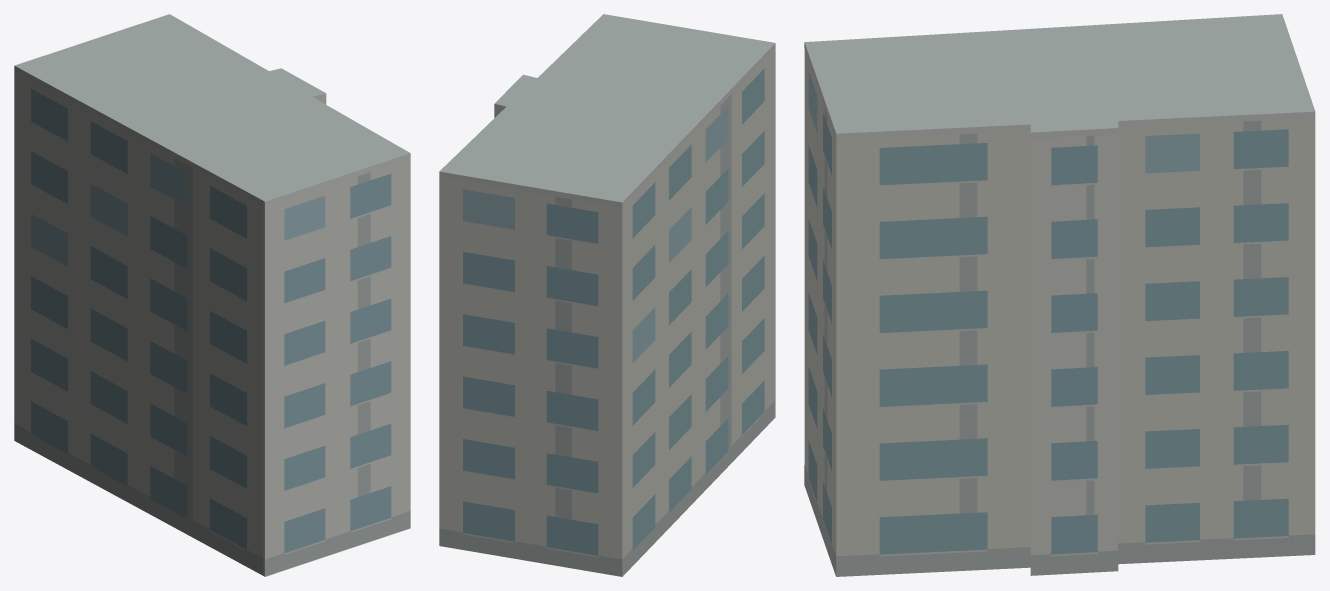
The model's file is survey-upis-32575367.glb.
3 renders of one model, left to right at view 1: azimuth 30°, elevation 25°; view 2: azimuth 150°, elevation 25°; view 3: azimuth 270°, elevation 25°, orthographic. The views are drawn at different scales.
Visible parts, largest first — view 1: survey-upis-32575367.tmp; view 2: survey-upis-32575367.tmp; view 3: survey-upis-32575367.tmp.
Part boxes in pixels (x1,y1,x2,y2): survey-upis-32575367.tmp: [14, 14, 410, 576]; survey-upis-32575367.tmp: [439, 14, 775, 576]; survey-upis-32575367.tmp: [804, 14, 1315, 576].
Size of the model in its own units: 9.68 by 16.7 by 17.46.
